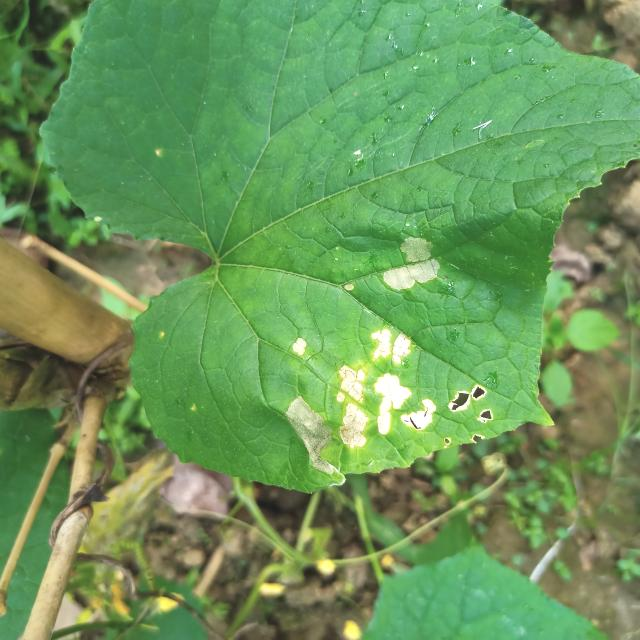disease_cucumber: (266, 317, 510, 478), (376, 226, 456, 298)
